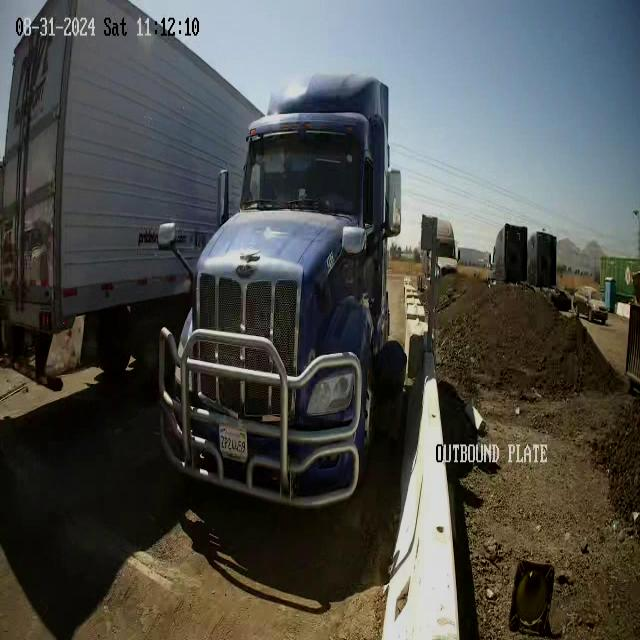CONTAINER: (0, 0, 198, 306)
